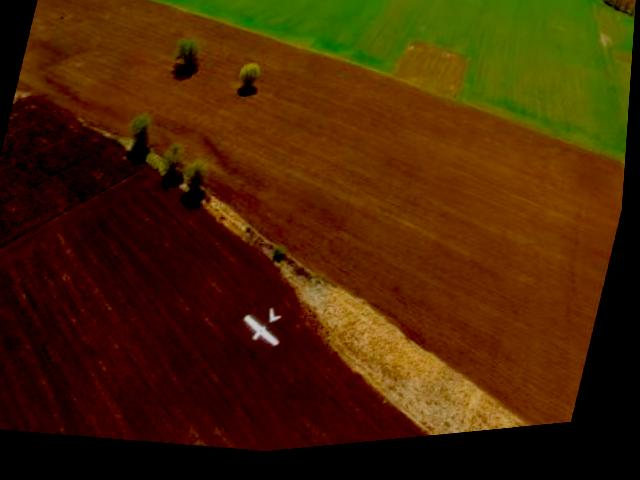uav: (232, 300, 300, 366)
